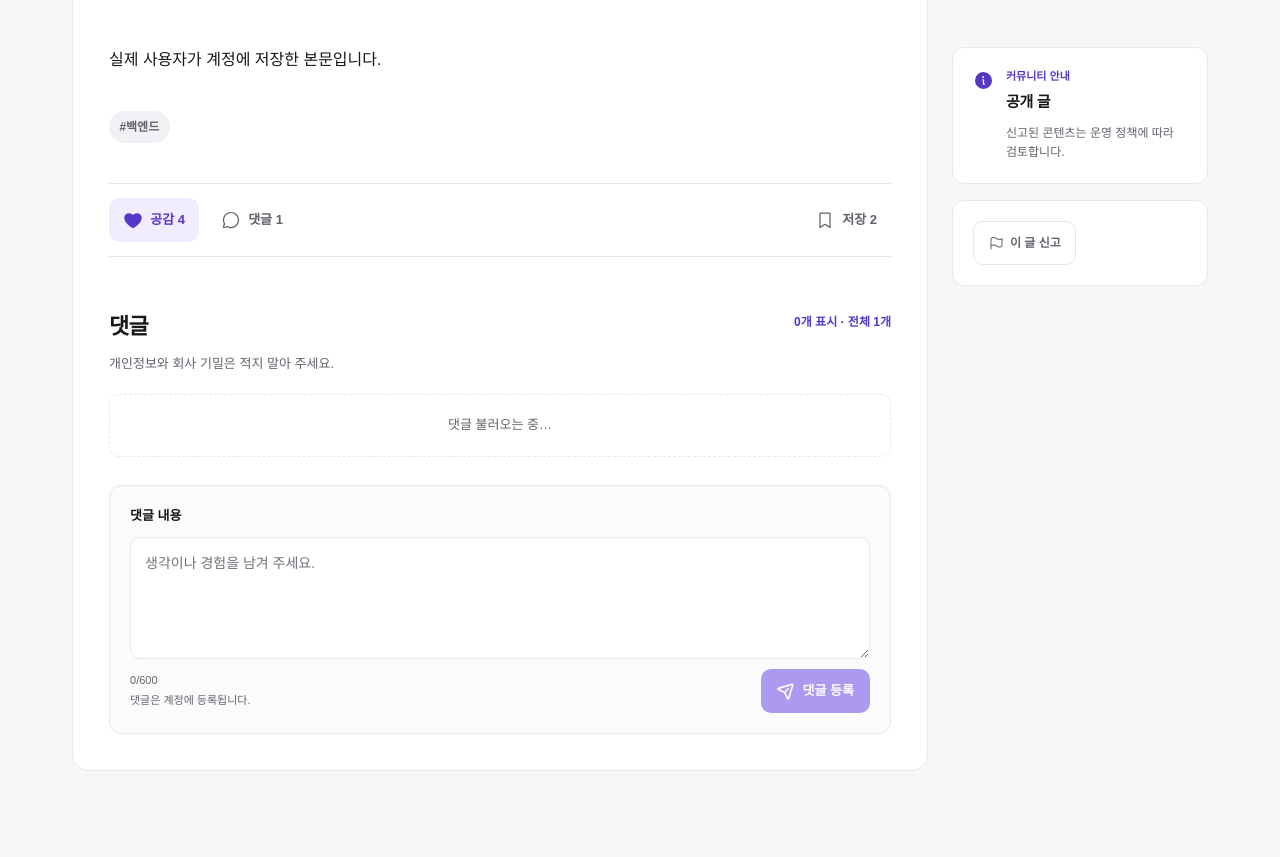
Test: ServerPostDetail › creates an account comment and updates the visible count
(page scrolled)
Step 1. Type "계정에 남길 댓글입니다." into the text box labelled "댓글 내용" → x=500, y=598, box top-left (130, 536), bottom-right (870, 659)
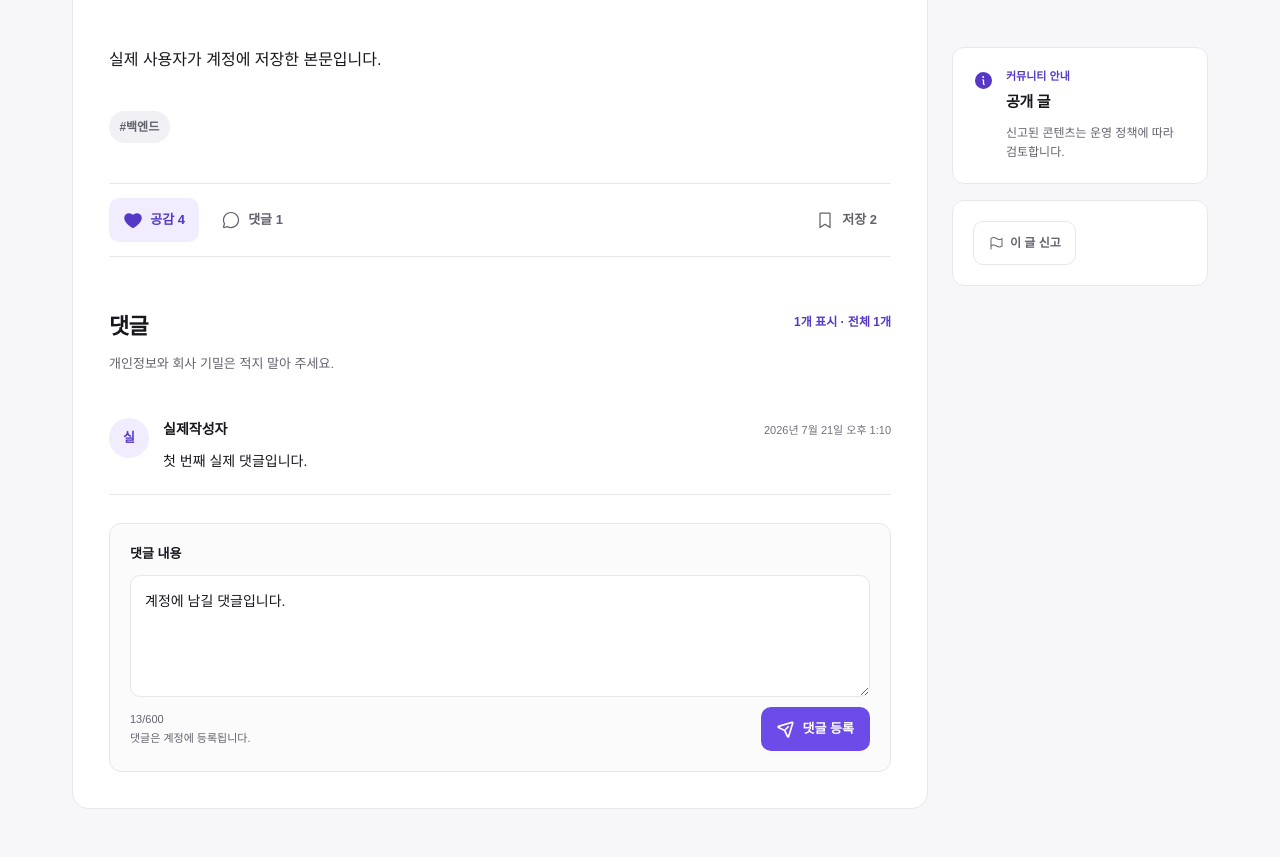
Check: the button "댓글 등록" is enabled
Step 2. Click the button "댓글 등록" → x=816, y=729, box top-left (761, 707), bottom-right (870, 751)
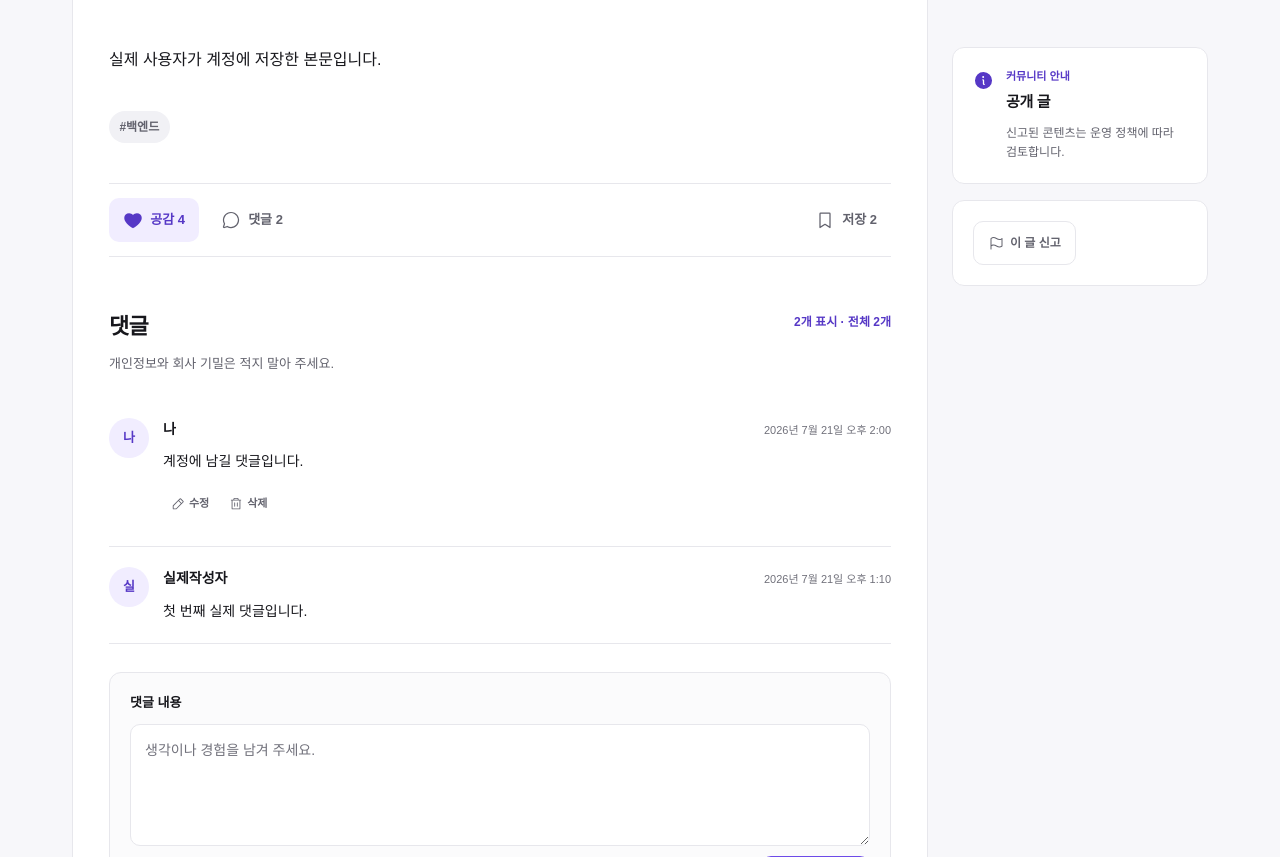
Check: the text box "계정에 남길 댓글입니다." is shown, box top-left (130, 724), bottom-right (870, 846)
Check: the text "댓글 2" is shown, box top-left (248, 210), bottom-right (283, 231)
